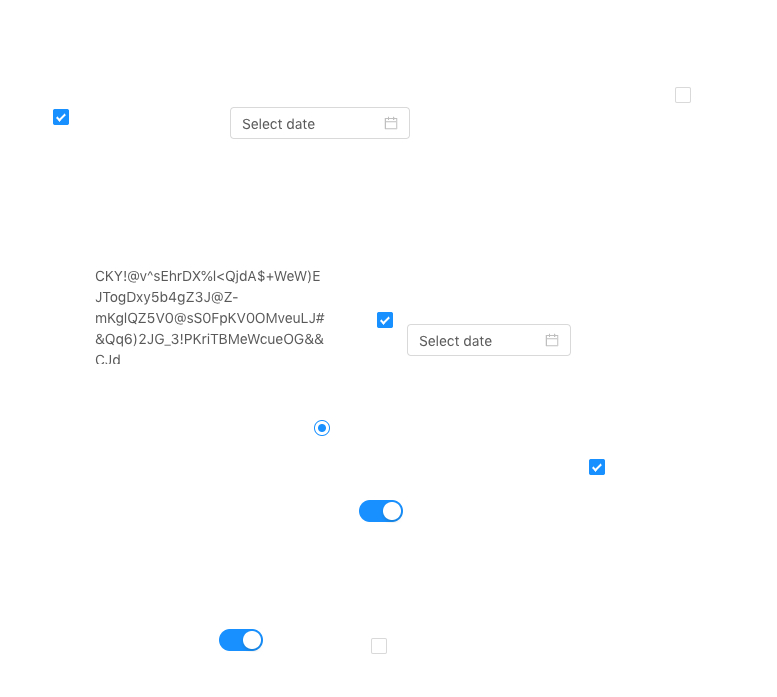Checkbox: (371, 635, 387, 656), (53, 106, 69, 127), (377, 309, 393, 330), (589, 456, 605, 477), (675, 84, 691, 105)
DatePicker: (230, 107, 410, 139), (407, 324, 571, 356)
Radio: (314, 417, 330, 437)
Switch: (359, 499, 403, 523), (219, 628, 263, 652)
Text: (95, 265, 327, 364)
